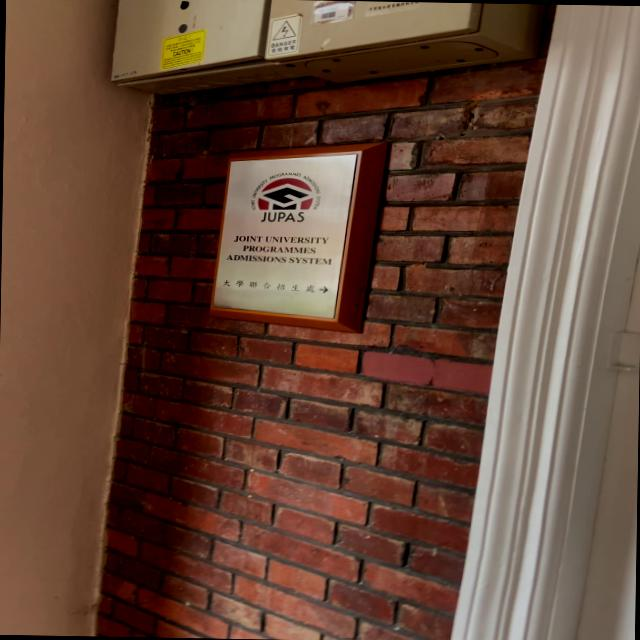jupasOffice: (209, 132, 394, 336)
